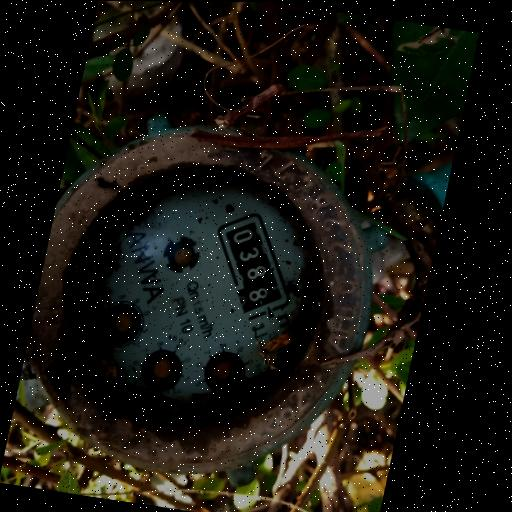0: (222, 217, 263, 253)
3: (227, 232, 270, 270)
8: (231, 270, 286, 319), (232, 249, 279, 292)
border_water_meter_number: (194, 204, 309, 326)
